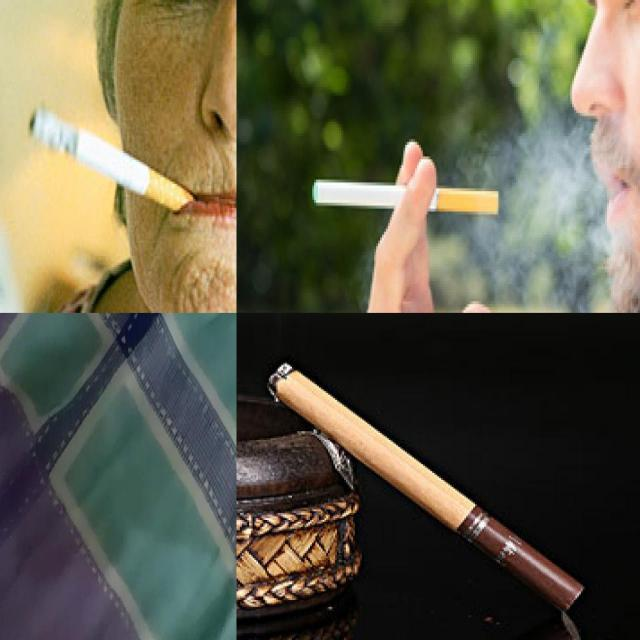cigarette: (268, 360, 584, 610), (26, 104, 198, 214), (312, 177, 500, 215)
